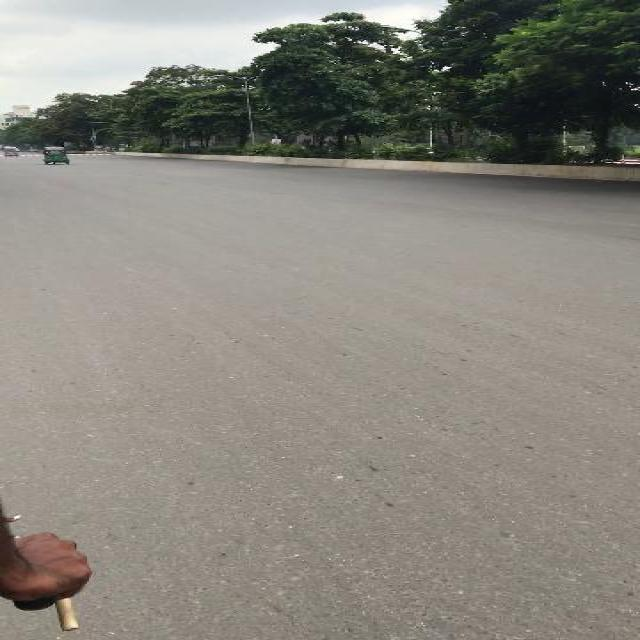three wheelers -CNG-: (41, 146, 69, 164), (2, 145, 18, 157)
